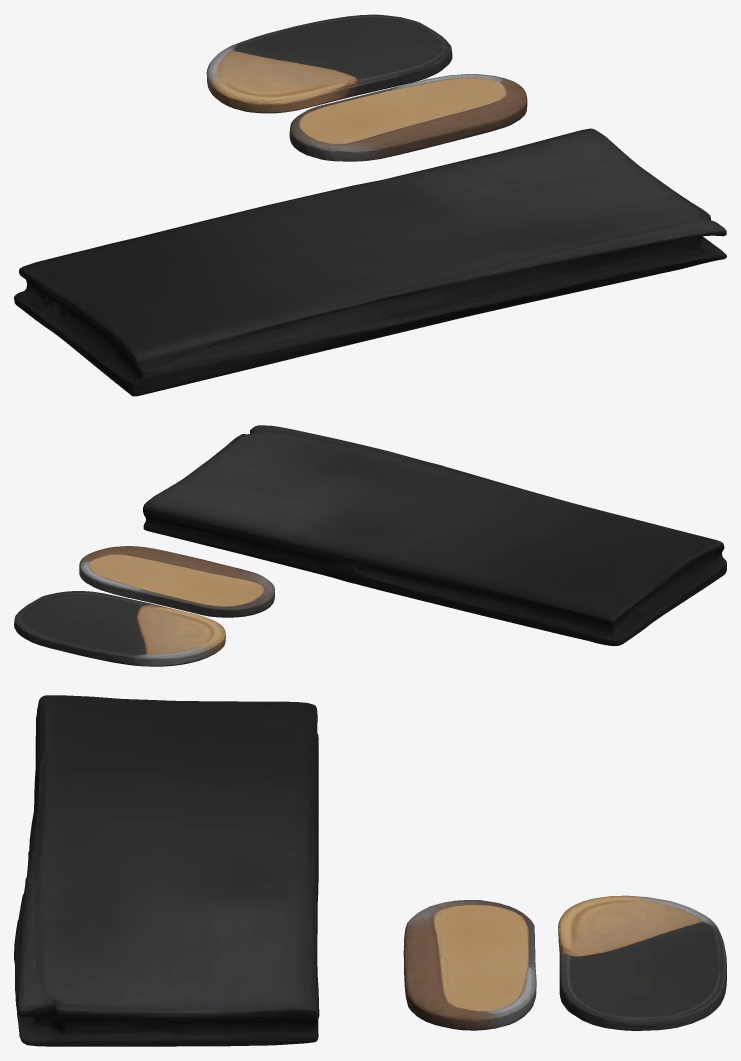
The picture shows the model from 3 angles, top to bottom: view 1: azimuth 30°, elevation 25°; view 2: azimuth 150°, elevation 25°; view 3: azimuth 270°, elevation 25°; orthographic projection. The views are drawn at different scales.
Parts seen in each view (by area): view 1: geometry_0; view 2: geometry_0; view 3: geometry_0.
Part boxes in pixels (box(x1,y1,x2,y2)): geometry_0: box(14, 14, 726, 396); geometry_0: box(14, 425, 726, 666); geometry_0: box(14, 695, 726, 1046).
Bounding box in the file's own units: 0.9999 × 0.0747 × 0.9646.
Materials: 1 (1 with a texture image).
